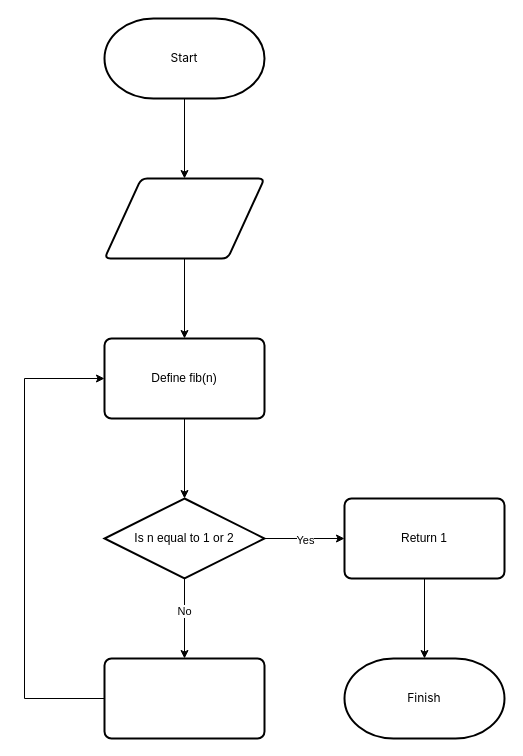
The diagram is 523 pixels wide and 756 high, and some of its shapes have lost their labels. Here are the shapes that lost their labels. From the top down, the centre of each, then its label:
the point at 184,218: Get n from user
the point at 184,698: Return fib(n-1)+fib(n-2)
